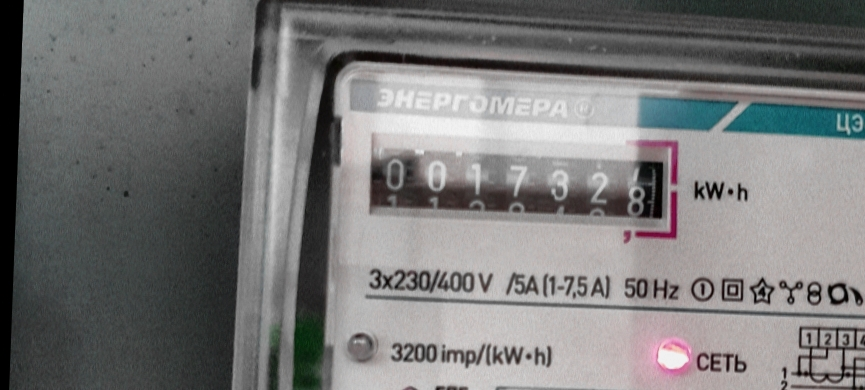0: (384, 154, 407, 192), (426, 158, 447, 192)
1: (468, 159, 485, 196)
2: (587, 169, 609, 206)
3: (547, 167, 571, 203)
7: (505, 161, 530, 199)
8: (625, 182, 646, 218)
screen: (358, 129, 684, 241)
